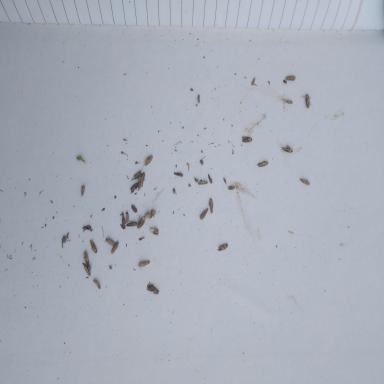pbw: (142, 154, 153, 170), (137, 214, 146, 229), (110, 241, 120, 254), (120, 210, 126, 230), (200, 207, 208, 221), (90, 239, 98, 253), (282, 144, 294, 153), (255, 160, 268, 168), (300, 176, 310, 186), (216, 244, 228, 252), (138, 260, 151, 267), (104, 238, 115, 246), (83, 251, 89, 265), (208, 198, 213, 214), (83, 266, 91, 276), (82, 225, 92, 232), (126, 220, 137, 226), (242, 136, 253, 142), (82, 263, 91, 270), (285, 75, 295, 81), (131, 204, 137, 213), (125, 211, 129, 224), (198, 180, 208, 185), (81, 185, 85, 197), (174, 172, 183, 177), (208, 173, 212, 184), (227, 185, 235, 190), (144, 214, 152, 219), (284, 100, 293, 104), (251, 77, 255, 85)
